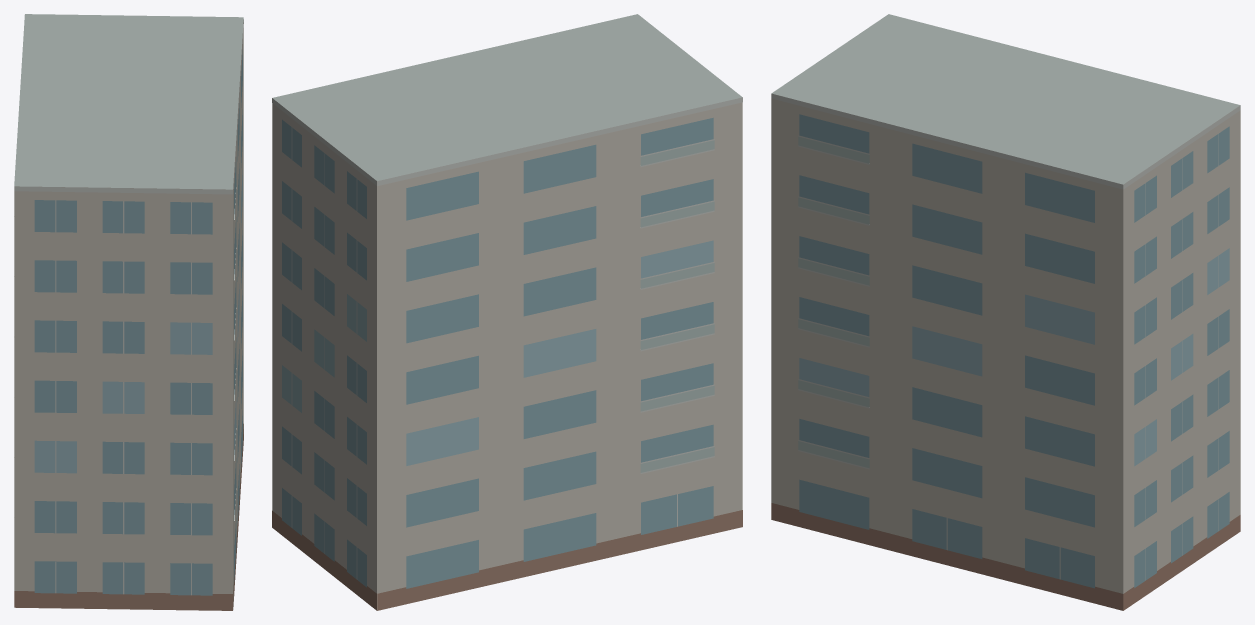
File: survey-upis-32788668.glb
3 renders of one model, left to right at view 1: azimuth 30°, elevation 25°; view 2: azimuth 150°, elevation 25°; view 3: azimuth 270°, elevation 25°, orthographic.
Visible parts, largest first — view 1: survey-upis-32788668.tmp; view 2: survey-upis-32788668.tmp; view 3: survey-upis-32788668.tmp.
Boxes of the visible parts, x1,y1,x2,y2 form: survey-upis-32788668.tmp: (14, 14, 243, 610); survey-upis-32788668.tmp: (272, 14, 742, 610); survey-upis-32788668.tmp: (771, 14, 1240, 610).
Size of the model in its own units: 18.08 by 21.05 by 21.01.
